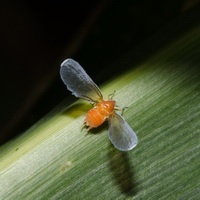insect: (60, 58, 137, 150)
